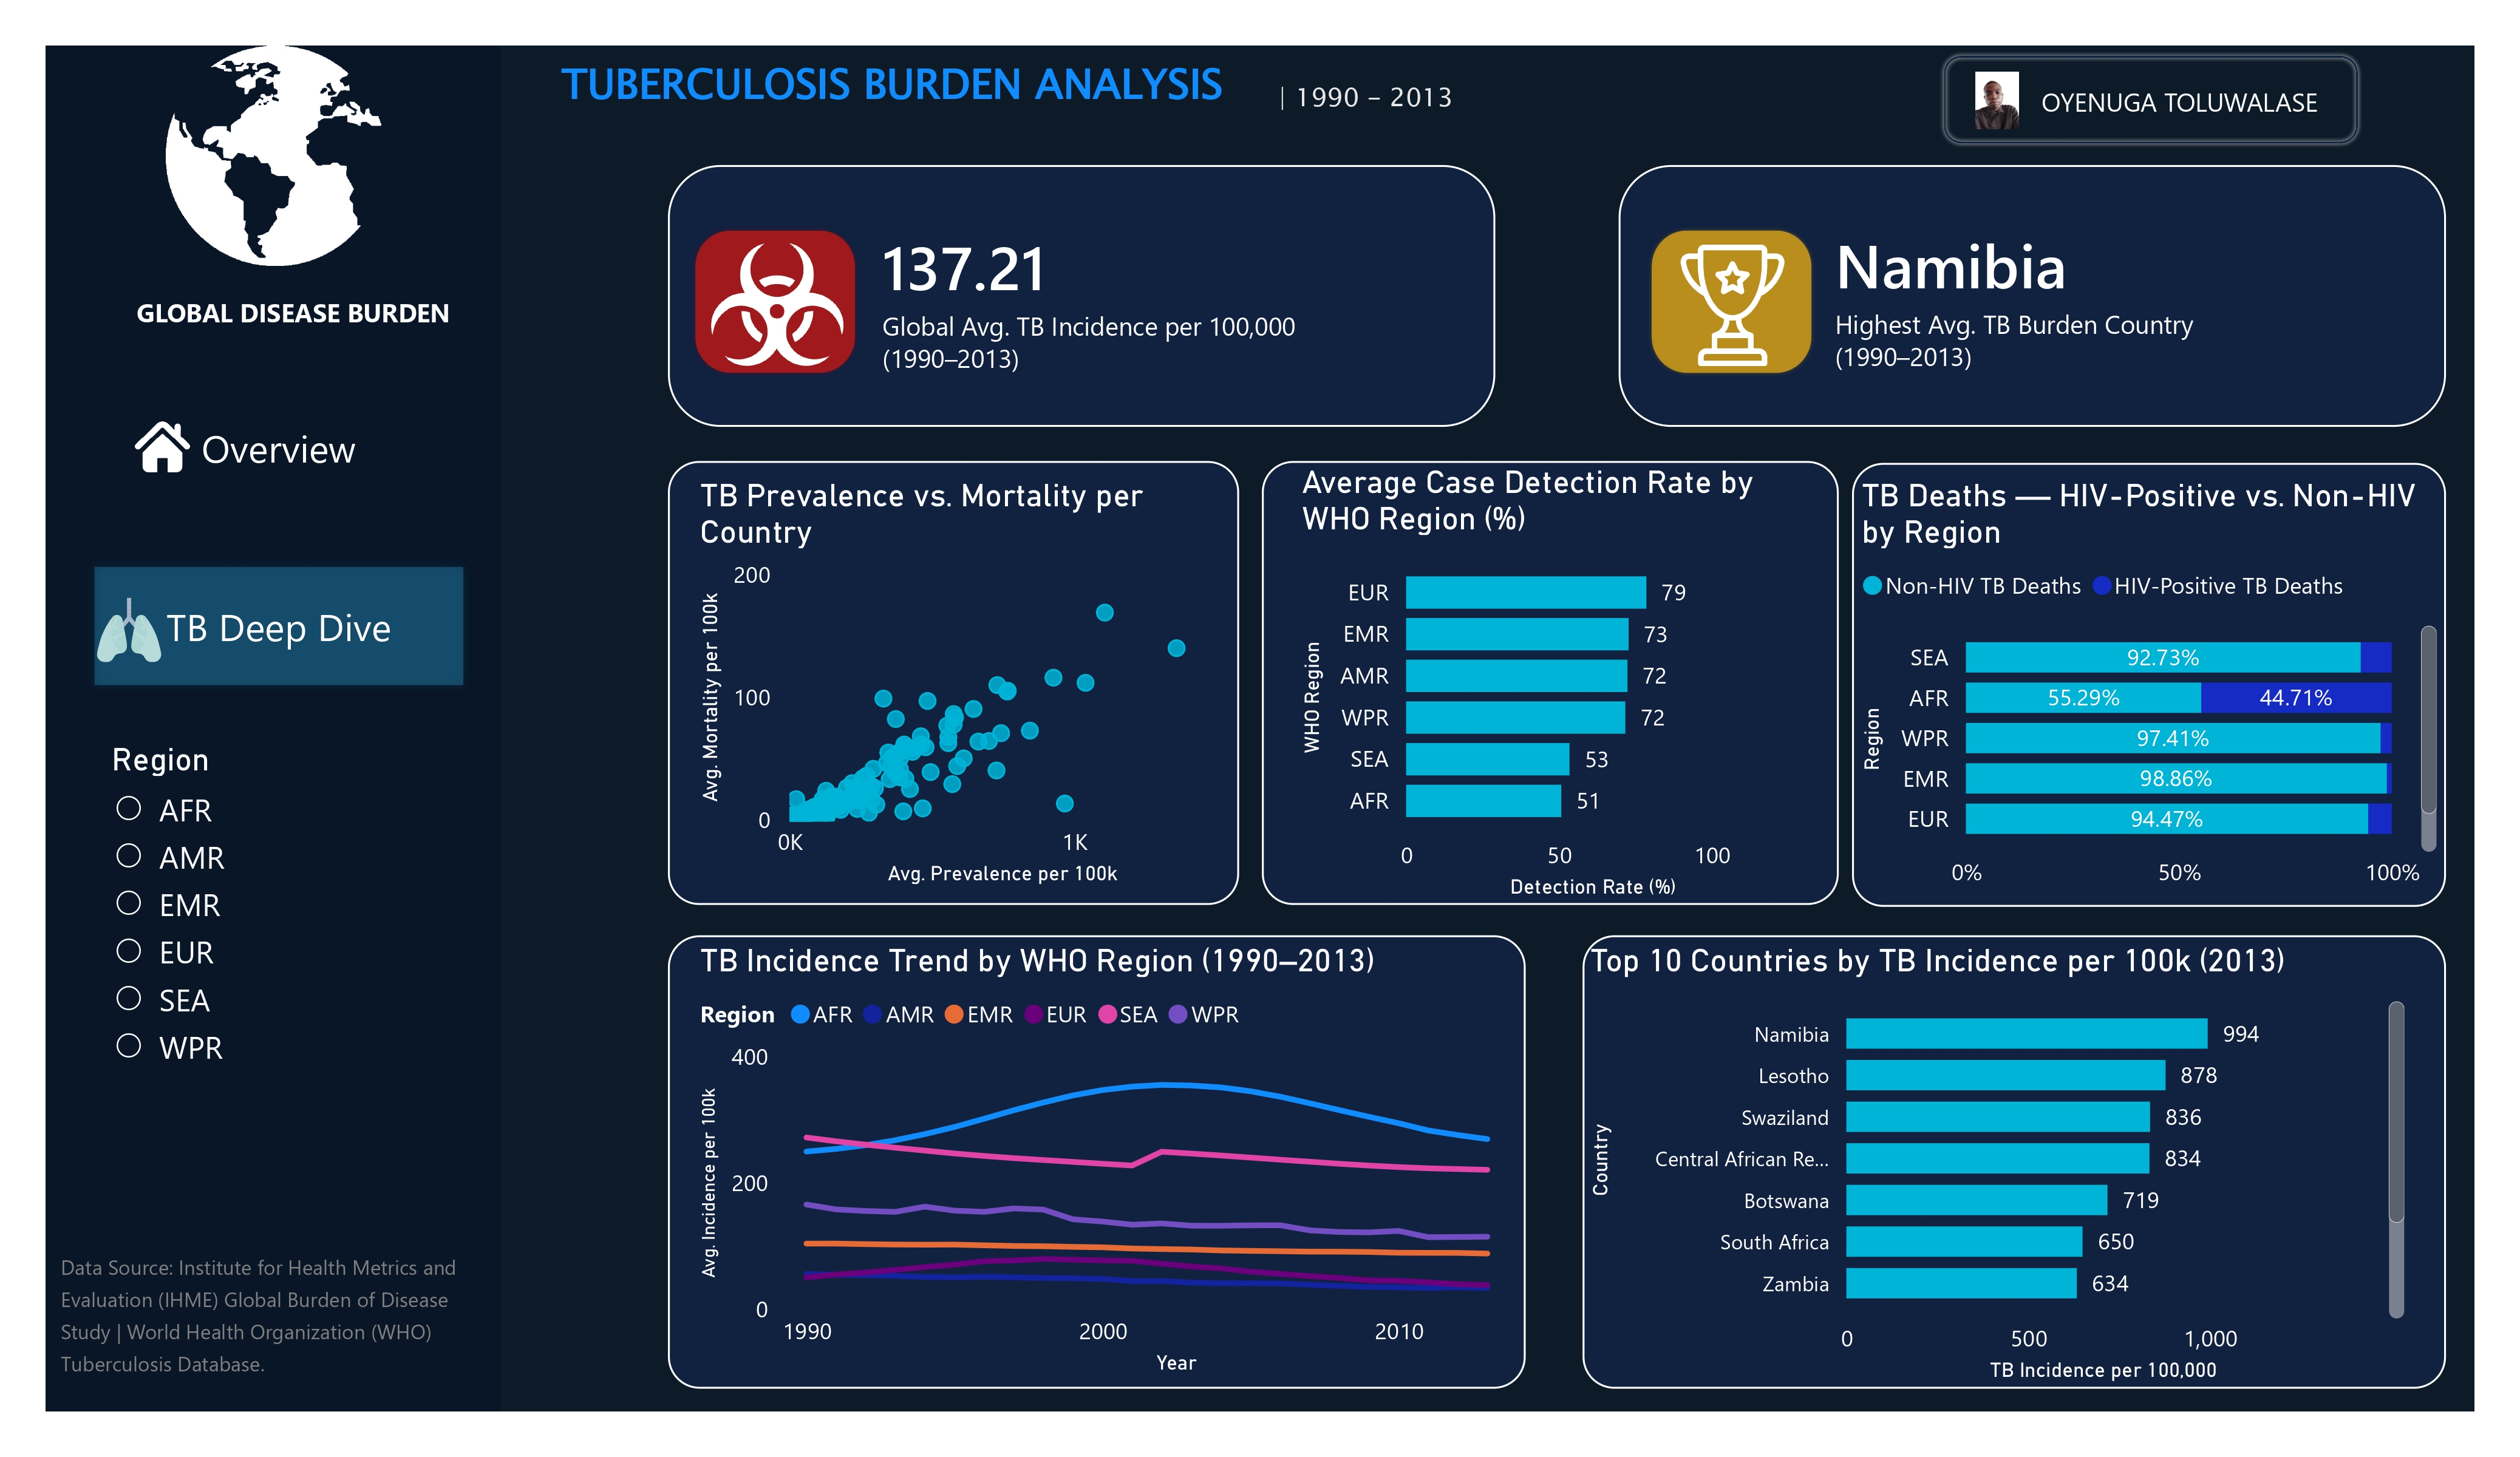

The page's visual inventory and layout, read from the dashboard file:
{"tool":"powerbi","page":{"name":"Page 2","canvas":[1280,720],"ordinal":1},"visuals":[{"type":"shape","box":[327.6,63.3,436.3,137.6],"z":0},{"type":"shape","box":[340,95,89.5,79.8],"z":1000},{"type":"shape","box":[640.7,218.9,304.2,233.6],"z":2000},{"type":"shape","box":[952.2,220.4,313,233.6],"z":3000},{"type":"shape","box":[327.7,218.9,301.2,233.6],"z":4000},{"type":"shape","box":[828.7,63.2,436.4,138.1],"z":5000},{"type":"shape","box":[809.6,468.7,455.5,239.5],"z":6000},{"type":"cardVisual","fields":{"Data":["_Measures.Highest_Burden_Country"]},"box":[919.4,77.1,268.4,111.5],"z":7000},{"type":"cardVisual","fields":{"Data":["_Measures.Global_Average_Incidence"]},"box":[417,78.5,293.2,111.5],"z":8000},{"type":"scatterChart","title":"TB Prevalence vs. Mortality per Country","fields":{"X":["DBschema TBBurdenByCountry.Estimated_prevalence_of_TB_per_100k"],"Category":["DBschema TBBurdenByCountry.Country"],"Y":["DBschema TBBurdenByCountry.Estimated_mortality_of_TB_cases_all_forms_excluding_HIV_per_100k"]},"box":[340,227.1,289,220.2],"z":9000},{"type":"hundredPercentStackedBarChart","title":"TB Deaths — HIV-Positive vs. Non-HIV by Region","fields":{"Category":["DBschema TBBurdenByCountry.Region"],"Y":["Sum(DBschema TBBurdenByCountry.Estimated_number_of_deaths_from_TB_all_forms_excluding_HIV)","Sum(DBschema TBBurdenByCountry.Estimated_number_of_deaths_from_TB_in_people_who_are_HIV_positive)"]},"box":[952.4,227.1,312.4,227.1],"z":10000},{"type":"clusteredBarChart","title":"Top 10 Countries by TB Incidence per 100k (2013)","fields":{"Y":["Avg(DBschema TBBurdenByCountry.Estimated_incidence_all_forms_per_100k)"],"Category":["DBschema TBBurdenByCountry.Country"]},"box":[809.3,472.1,439.1,236.7],"z":11000},{"type":"clusteredBarChart","title":"Average Case Detection Rate by WHO Region (%)","fields":{"Category":["DBschema TBBurdenByCountry.Region"],"Y":["Avg(DBschema TBBurdenByCountry.Case_detection_rate_all_forms_percent)"]},"box":[656.5,220.2,272.5,234],"z":12000},{"type":"shape","box":[327.7,468.7,452.6,239.5],"z":13000},{"type":"lineChart","title":"TB Incidence Trend by WHO Region (1990–2013)","fields":{"Category":["DBschema TBBurdenByCountry.Year"],"Series":["DBschema TBBurdenByCountry.Region"],"Y":["Avg(DBschema TBBurdenByCountry.Estimated_incidence_all_forms_per_100k)"]},"box":[340,472.1,469.3,232.6],"z":14000},{"type":"shape","box":[0,0,240,720],"z":15000},{"type":"image","box":[31.8,0,174.9,115.7],"z":16000},{"type":"textbox","box":[43.4,127.2,182.2,37.6],"z":17000},{"type":"textbox","box":[267.5,0,495.9,44.8],"z":18000},{"type":"textbox","box":[640.5,11.6,122.9,33.3],"z":19000},{"type":"actionButton","box":[20.2,174.9,205.3,72.3],"z":20000},{"type":"actionButton","box":[20.6,270.4,204.2,72],"z":21000},{"type":"image","box":[38.2,196.9,47,29.4],"z":22000},{"type":"image","box":[26.2,279.4,35.8,57.8],"z":23000},{"type":"textbox","box":[1046.9,15.6,164.8,28.9],"z":24000},{"type":"image","box":[1000.6,13.8,55.1,30.3],"z":25000},{"type":"textbox","box":[2.9,628.9,240,91.1],"z":26000},{"type":"shape","box":[843.7,95,89.5,79.8],"z":27000},{"type":"image","box":[857,95.9,63.6,82.4],"z":28000},{"type":"shape","box":[997.8,2.8,223,50.9],"z":29000},{"type":"image","box":[346.8,100.5,75.7,72.9],"z":30000},{"type":"listSlicer","fields":{"Values":["DBschema TBBurdenByCountry.Region"]},"box":[30,365.7,164.3,228.6],"z":31000}]}

Visuals, with their boxes on the page's 1280x720 design canvas (x1, y1, x2, y2). These are canvas units, not pixel positions in the 2520x1457 screenshot, which may show the page scaled, cropped or inside an application window:
shape: crop(328, 63, 764, 201)
shape: crop(340, 95, 430, 175)
shape: crop(641, 219, 945, 452)
shape: crop(952, 220, 1265, 454)
shape: crop(328, 219, 629, 452)
shape: crop(829, 63, 1265, 201)
shape: crop(810, 469, 1265, 708)
cardVisual - _Measures.Highest_Burden_Country: crop(919, 77, 1188, 189)
cardVisual - _Measures.Global_Average_Incidence: crop(417, 78, 710, 190)
"TB Prevalence vs. Mortality per Country" scatterChart: crop(340, 227, 629, 447)
"TB Deaths — HIV-Positive vs. Non-HIV by Region" hundredPercentStackedBarChart: crop(952, 227, 1265, 454)
"Top 10 Countries by TB Incidence per 100k (2013)" clusteredBarChart: crop(809, 472, 1248, 709)
"Average Case Detection Rate by WHO Region (%)" clusteredBarChart: crop(656, 220, 929, 454)
shape: crop(328, 469, 780, 708)
"TB Incidence Trend by WHO Region (1990–2013)" lineChart: crop(340, 472, 809, 705)
shape: crop(0, 0, 240, 720)
image: crop(32, 0, 207, 116)
textbox: crop(43, 127, 226, 165)
textbox: crop(268, 0, 763, 45)
textbox: crop(640, 12, 763, 45)
actionButton: crop(20, 175, 226, 247)
actionButton: crop(21, 270, 225, 342)
image: crop(38, 197, 85, 226)
image: crop(26, 279, 62, 337)
textbox: crop(1047, 16, 1212, 44)
image: crop(1001, 14, 1056, 44)
textbox: crop(3, 629, 243, 720)
shape: crop(844, 95, 933, 175)
image: crop(857, 96, 921, 178)
shape: crop(998, 3, 1221, 54)
image: crop(347, 100, 422, 173)
listSlicer - DBschema TBBurdenByCountry.Region: crop(30, 366, 194, 594)
